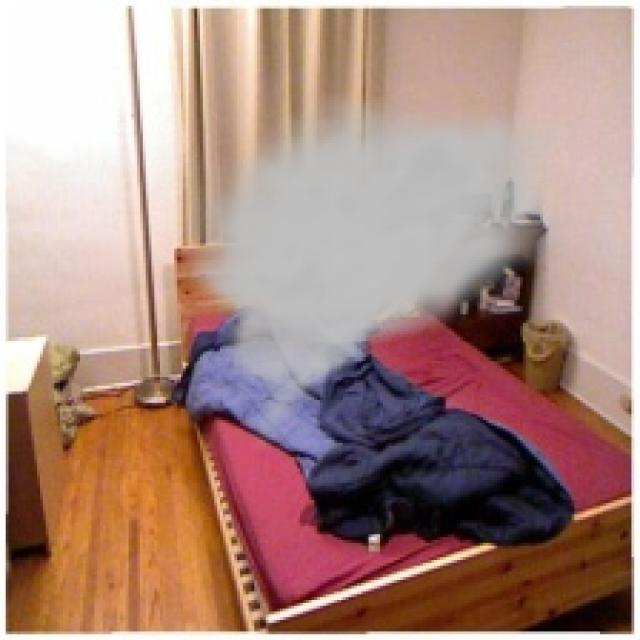smoke: (174, 92, 577, 454)
